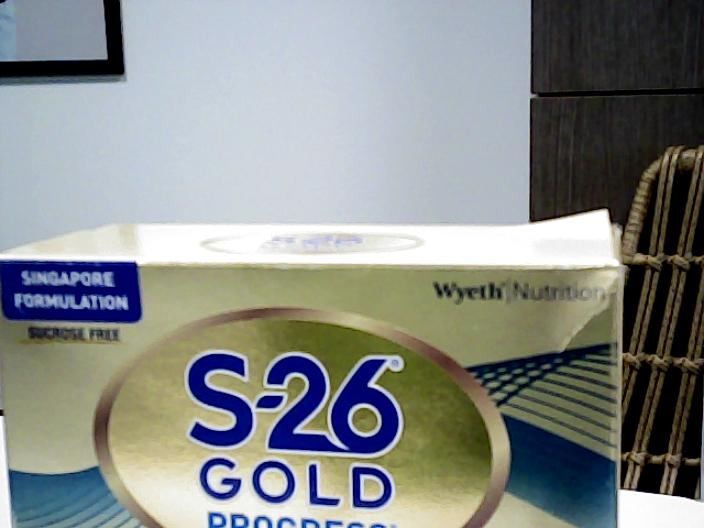Babymilk-powder_200-299g_Halal_NonHealthy: (1, 227, 620, 528)
